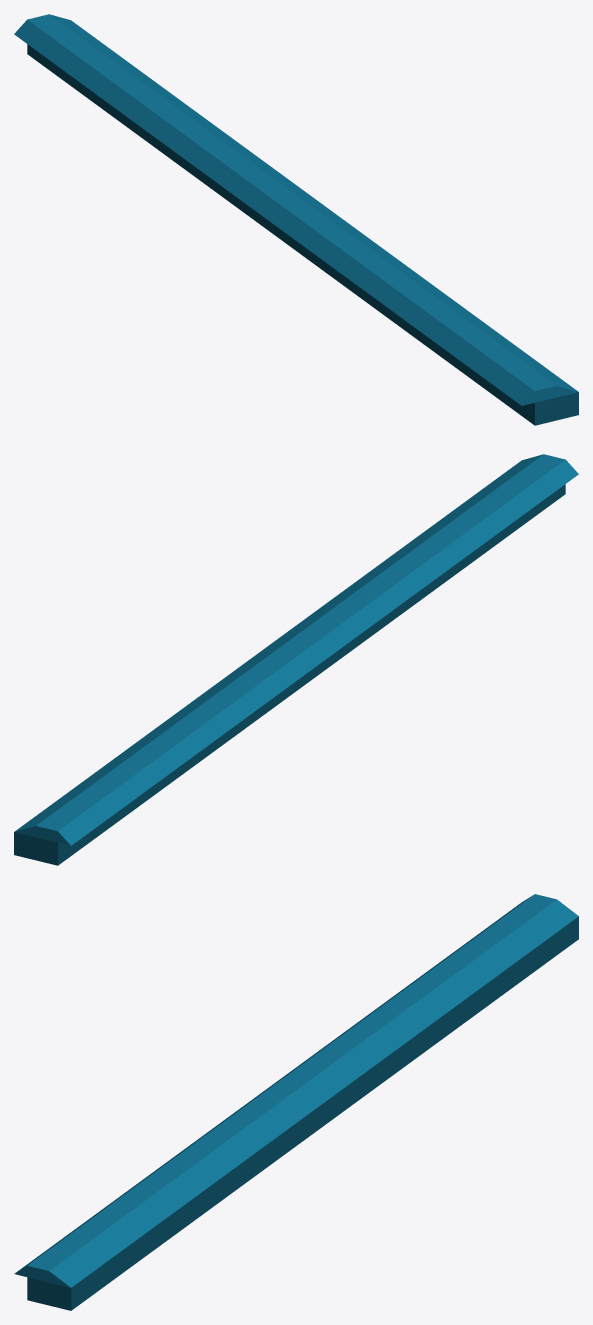
The model's file is Ledge_0.fbx.
3 renders of one model, top to bottom at view 1: azimuth 30°, elevation 25°; view 2: azimuth 150°, elevation 25°; view 3: azimuth 330°, elevation 25°, orthographic.
Visible parts, largest first — view 1: Ledge_0; view 2: Ledge_0; view 3: Ledge_0.
Boxes of the visible parts, <box> form: Ledge_0: <box>14,14,578,425</box>; Ledge_0: <box>14,454,578,865</box>; Ledge_0: <box>14,894,578,1310</box>.
Size of the model in its own units: 0.26 by 4 by 0.15.
